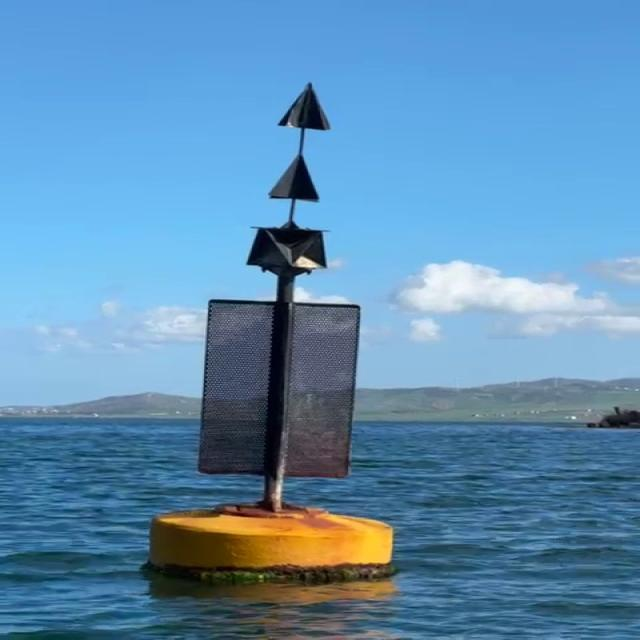marque: (150, 81, 401, 585)
